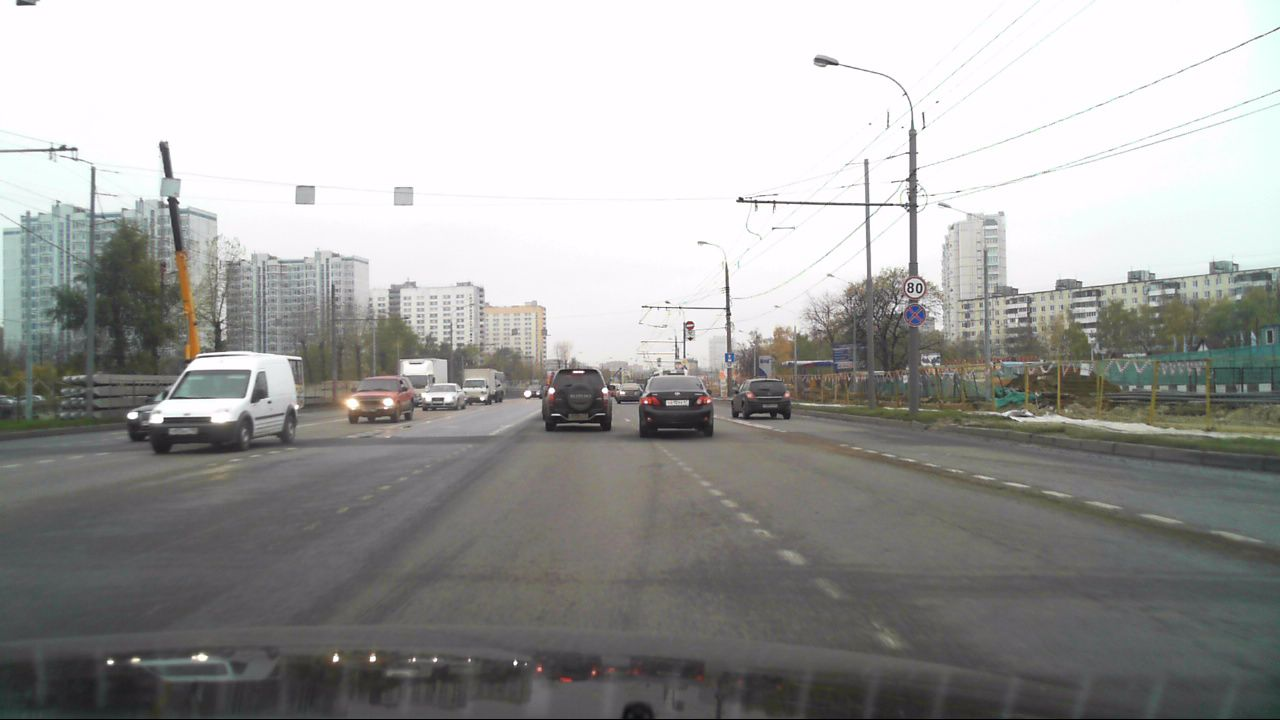No Parking: (903, 303, 927, 327)
